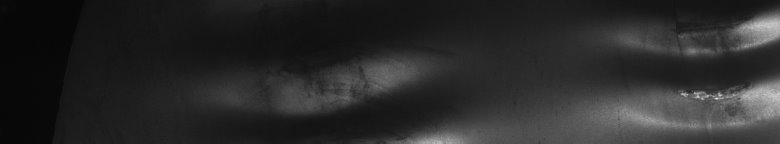ke: (613, 4, 776, 136)
